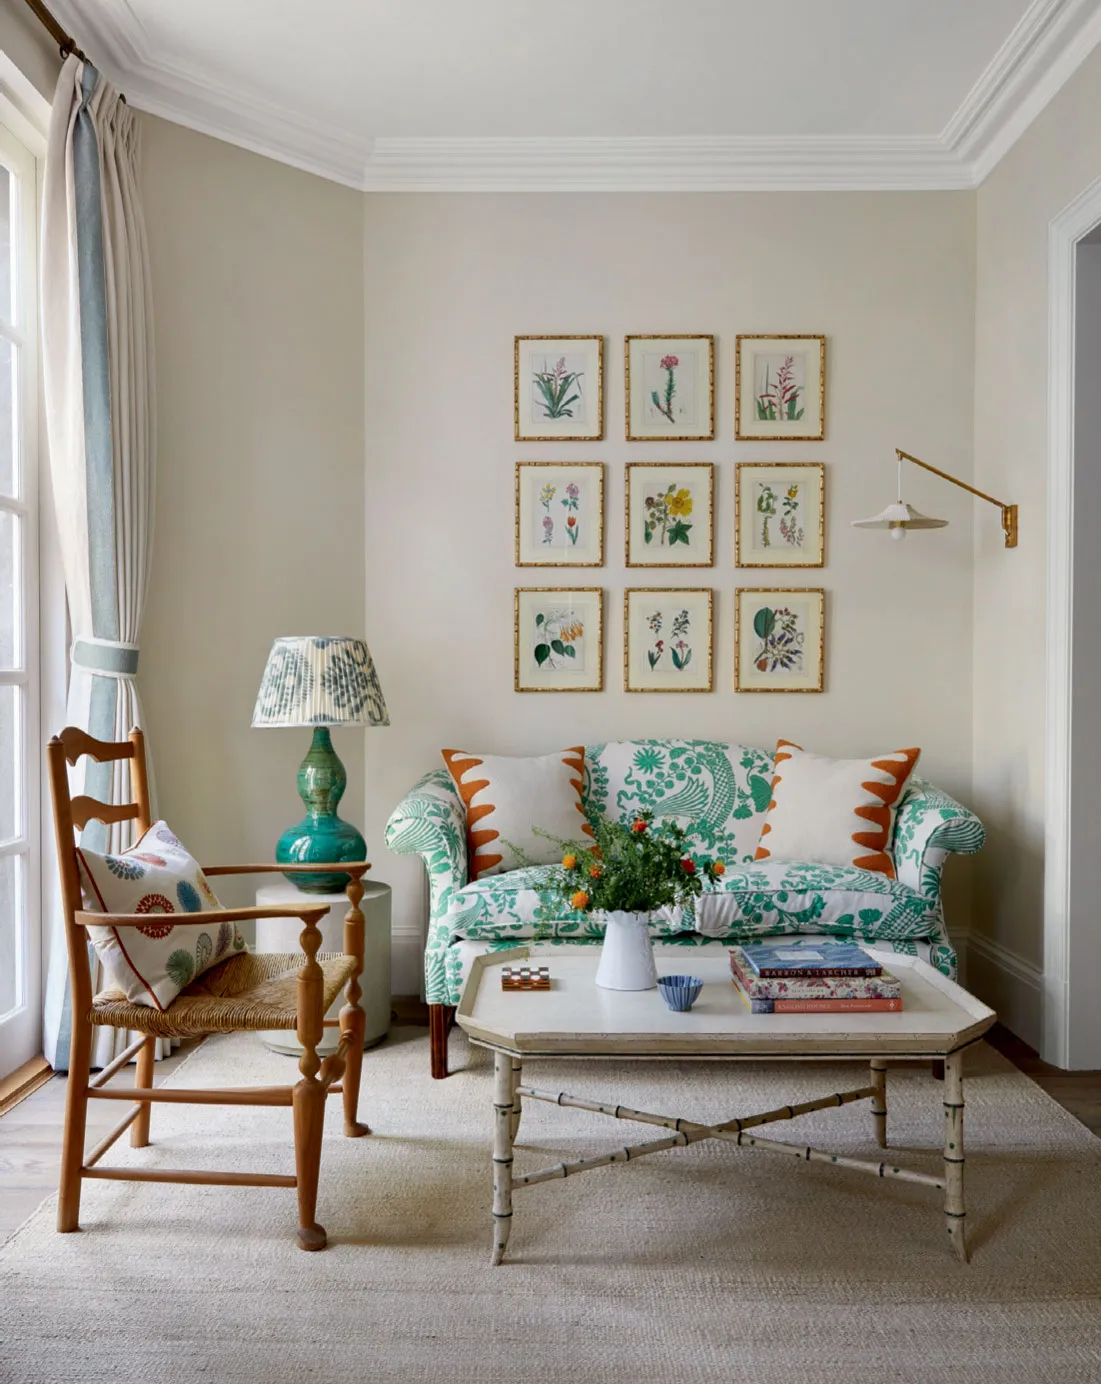chair: (40, 719, 376, 1264)
flower vase: (547, 804, 718, 995)
side table: (254, 885, 390, 1053)
sofa: (382, 734, 991, 1076)
table: (459, 928, 1000, 1280)
table lamp: (248, 623, 390, 891)
wall art: (729, 320, 832, 450), (501, 325, 612, 444), (507, 580, 612, 702), (726, 455, 835, 572), (621, 325, 721, 450), (509, 452, 612, 571), (618, 583, 718, 702), (624, 453, 718, 575), (729, 577, 827, 689)
